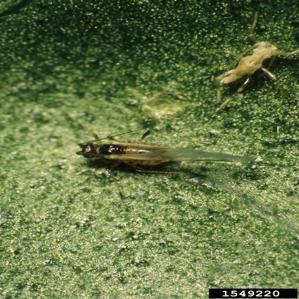Green peach aphid: (59, 108, 251, 215), (188, 23, 299, 106)
